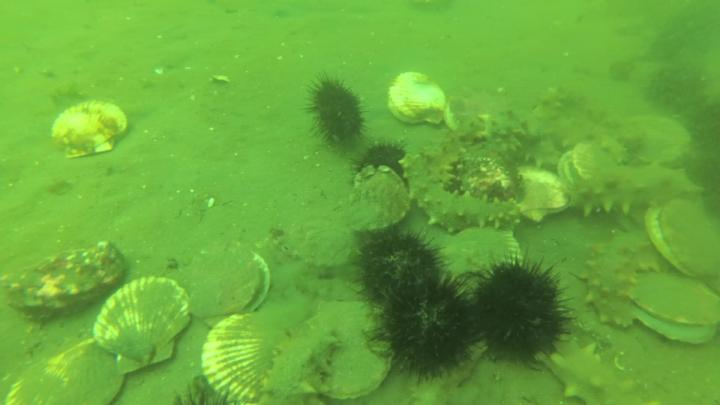echinus: (472, 258, 572, 368), (375, 273, 478, 379), (355, 228, 445, 307), (304, 76, 367, 152), (353, 140, 409, 185)
holothurian: (397, 152, 520, 235), (257, 312, 344, 405), (547, 341, 659, 405), (580, 228, 649, 330), (571, 173, 688, 219), (592, 107, 645, 155), (428, 133, 465, 190), (506, 137, 563, 171), (594, 128, 633, 166)
scallop: (92, 275, 194, 376), (2, 331, 130, 405), (312, 299, 397, 399), (184, 242, 274, 331), (632, 272, 720, 348), (201, 314, 273, 405), (646, 201, 720, 282), (48, 98, 132, 163), (435, 228, 527, 275), (384, 69, 452, 128), (638, 116, 694, 172), (520, 168, 571, 226), (557, 139, 590, 187)
